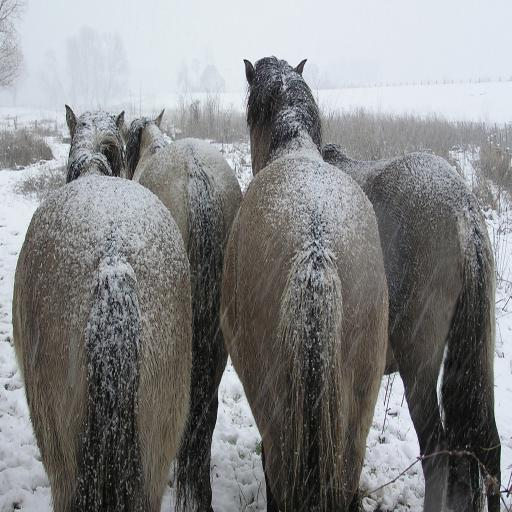Horse: (219, 58, 389, 512), (12, 106, 192, 512), (320, 144, 502, 512), (110, 106, 243, 512)
